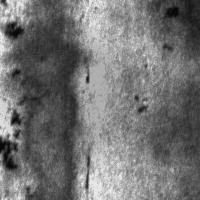patches: (7, 32, 137, 162), (20, 1, 80, 198), (149, 84, 200, 170), (149, 1, 199, 53), (1, 107, 24, 172), (2, 17, 23, 40), (162, 4, 182, 22)
